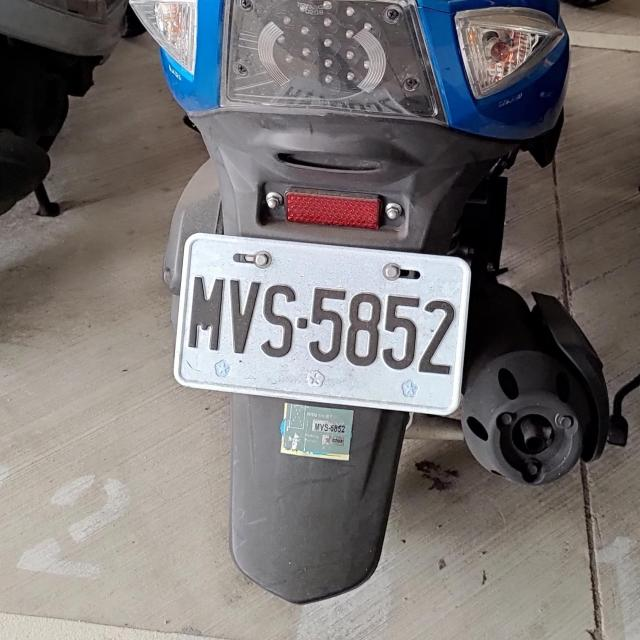W: (170, 229, 472, 410)
